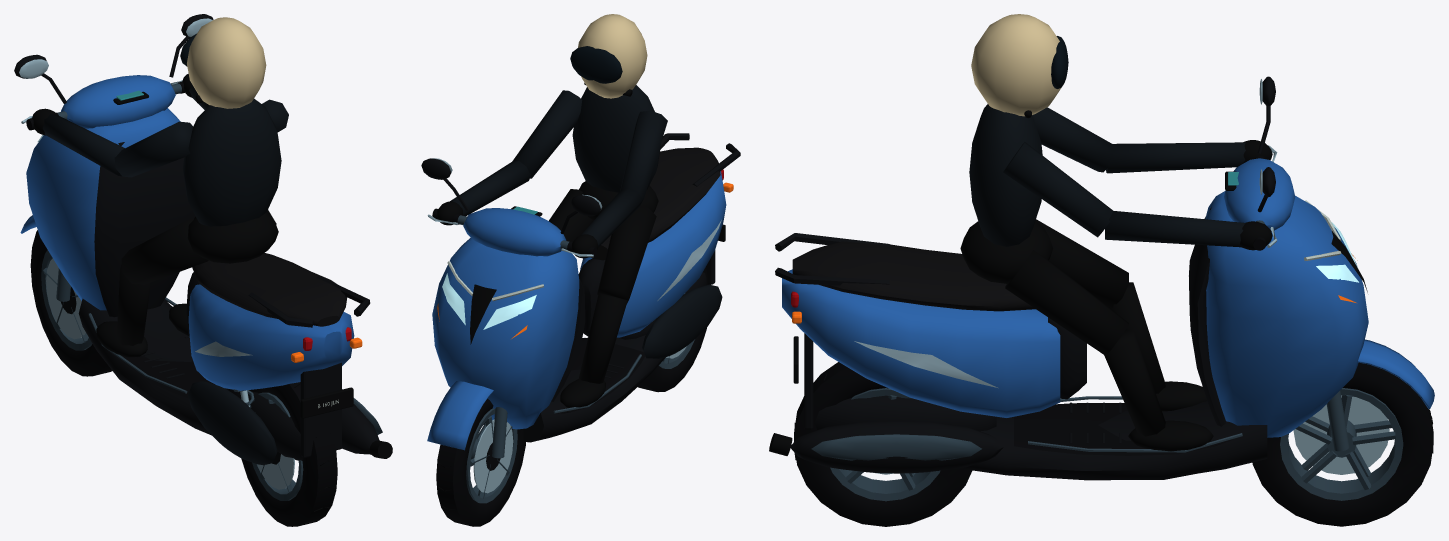
File: Body.fbx
3 views of the same model, side by side, from view 1: azimuth 30°, elevation 25°; view 2: azimuth 150°, elevation 25°; view 3: azimuth 270°, elevation 25° (orthographic). The views are drawn at different scales.
Parts seen in each view (by area): view 1: Body_Mesh, Helmeted_Traffic_Rider, Wheel_Rear_Mesh, Steering_Pivot_Mesh, Wheel_Front_Mesh; view 2: Body_Mesh, Helmeted_Traffic_Rider, Steering_Pivot_Mesh, Wheel_Front_Mesh, Wheel_Rear_Mesh, Headlights_Mesh; view 3: Body_Mesh, Helmeted_Traffic_Rider, Wheel_Front_Mesh, Wheel_Rear_Mesh, Steering_Pivot_Mesh, Headlights_Mesh.
Part boxes in pixels (<box>): Body_Mesh: <box>26,108,392,465</box>; Helmeted_Traffic_Rider: <box>32,17,288,357</box>; Wheel_Rear_Mesh: <box>241,382,337,526</box>; Steering_Pivot_Mesh: <box>14,14,213,301</box>; Wheel_Front_Mesh: <box>30,230,112,376</box>; Body_Mesh: <box>432,133,740,442</box>; Helmeted_Traffic_Rider: <box>437,14,667,407</box>; Steering_Pivot_Mesh: <box>421,158,602,458</box>; Wheel_Front_Mesh: <box>436,398,525,526</box>; Wheel_Rear_Mesh: <box>638,267,710,392</box>; Headlights_Mesh: <box>442,261,543,329</box>; Body_Mesh: <box>769,191,1368,480</box>; Helmeted_Traffic_Rider: <box>960,14,1272,451</box>; Wheel_Front_Mesh: <box>1252,362,1433,526</box>; Wheel_Rear_Mesh: <box>794,362,972,526</box>; Steering_Pivot_Mesh: <box>1224,76,1434,451</box>; Headlights_Mesh: <box>1304,200,1358,282</box>.
Size of the model in its own units: 72 by 156 by 187.
